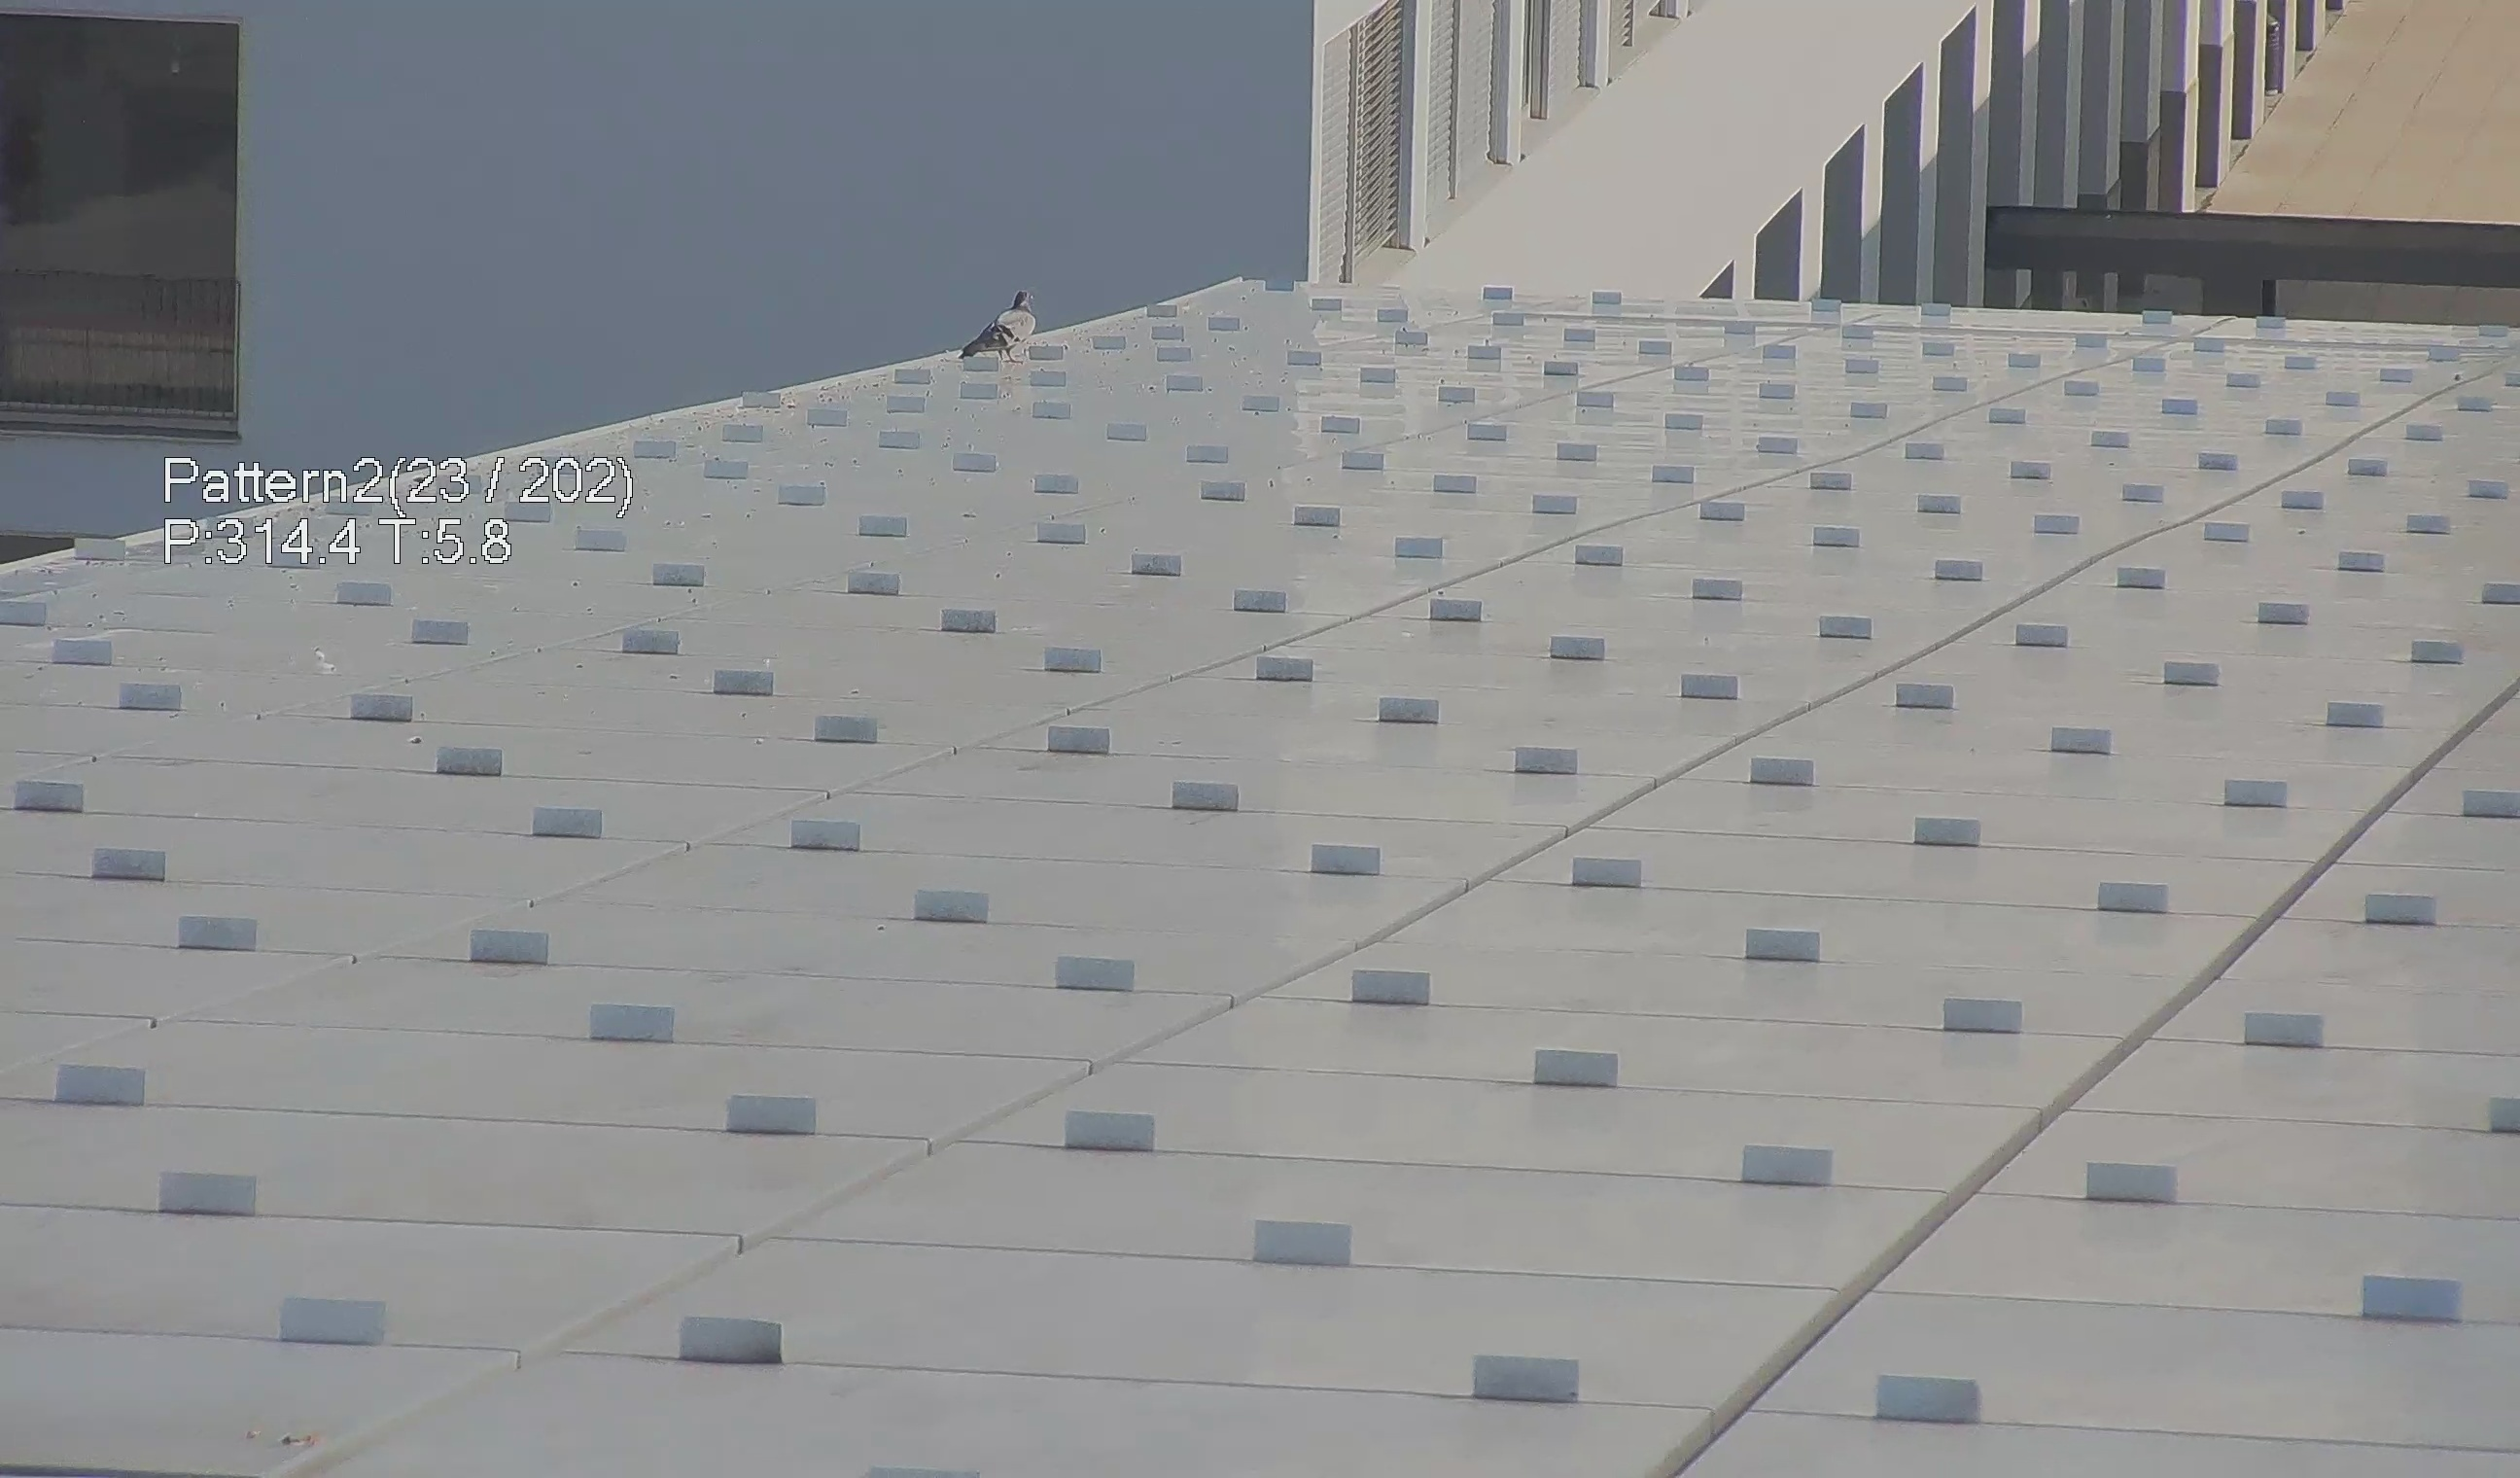Pigeon: (953, 278, 1043, 371)
